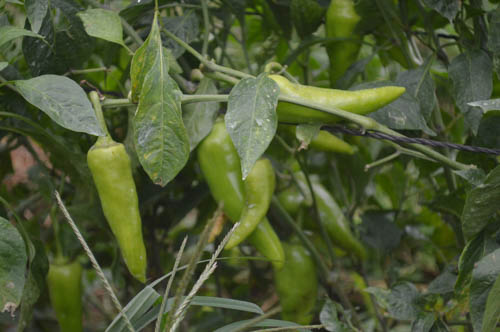ChiliPepper: (204, 130, 283, 265), (89, 145, 147, 284), (255, 72, 406, 120), (281, 178, 364, 258), (224, 160, 276, 253), (275, 245, 312, 324), (41, 265, 84, 331), (322, 10, 359, 82)
